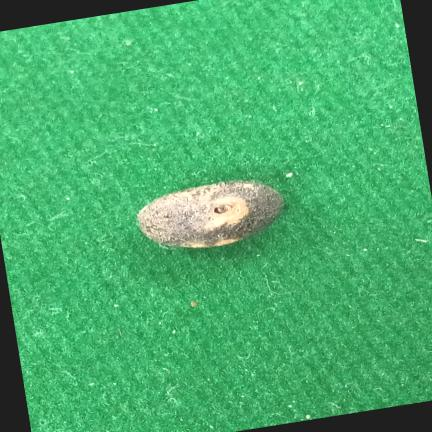partial-black: (138, 180, 284, 248)
